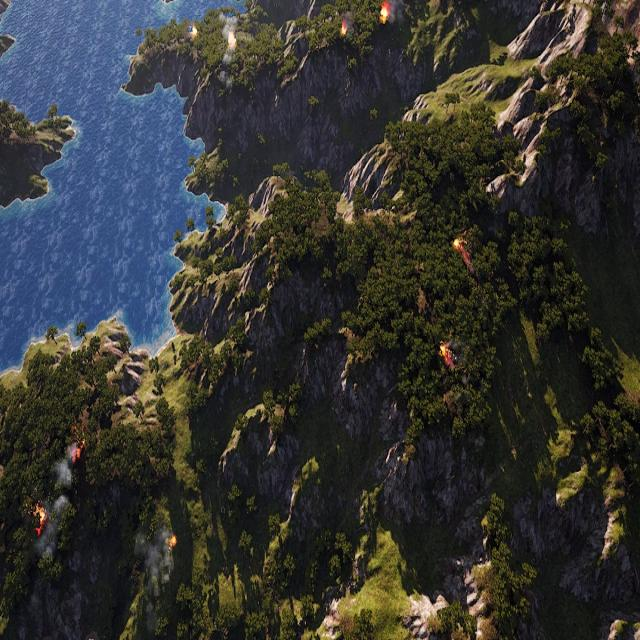fire: (73, 415, 88, 462), (453, 238, 471, 266), (34, 506, 46, 536), (440, 343, 454, 366), (380, 3, 390, 22), (73, 444, 82, 463), (230, 33, 239, 48), (342, 20, 350, 34), (189, 26, 198, 38), (171, 534, 177, 547)
smoke: (134, 526, 174, 636), (34, 494, 72, 557), (217, 14, 238, 93), (56, 441, 80, 489), (383, 0, 404, 26), (342, 12, 353, 32)
